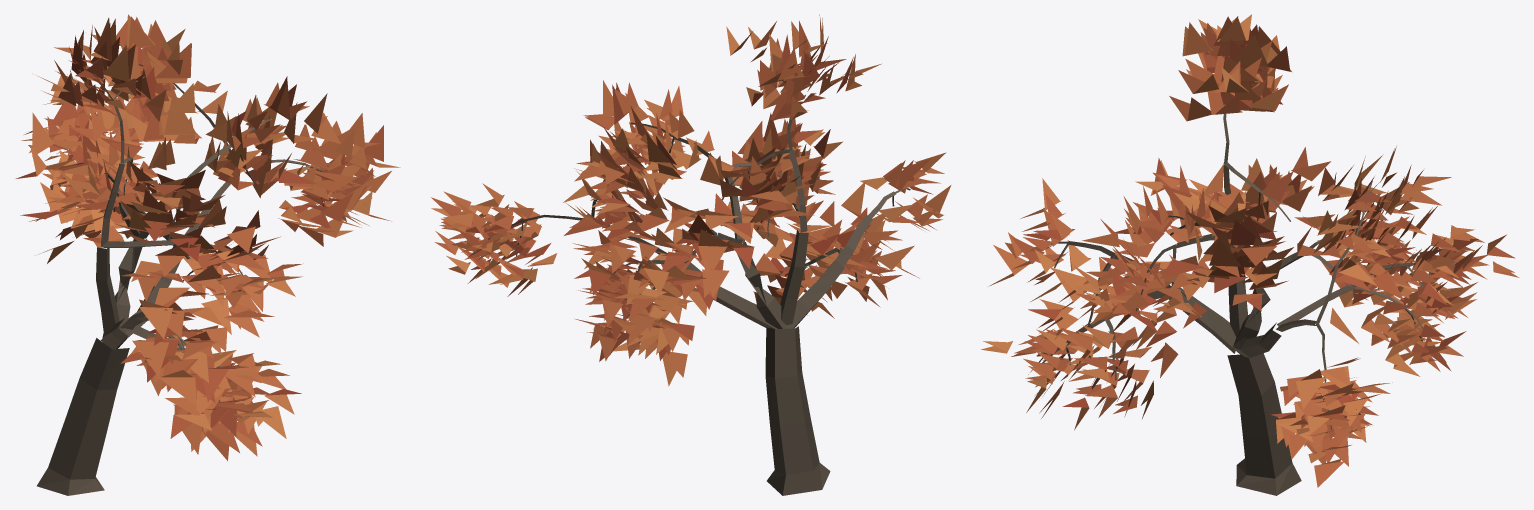
File: hieda_maple_a.glb
The picture shows the model from 3 angles, left to right: view 1: azimuth 30°, elevation 25°; view 2: azimuth 150°, elevation 25°; view 3: azimuth 270°, elevation 25°; orthographic projection. The views are drawn at different scales.
Visible parts, largest first — view 1: hieda_maple_a; view 2: hieda_maple_a; view 3: hieda_maple_a.
Boxes of the visible parts, bbox=[...] form: hieda_maple_a: bbox=[15, 14, 400, 495]; hieda_maple_a: bbox=[431, 14, 951, 495]; hieda_maple_a: bbox=[981, 14, 1519, 495].
Bounding box in the file's own units: 7.41 × 8.25 × 8.46.
